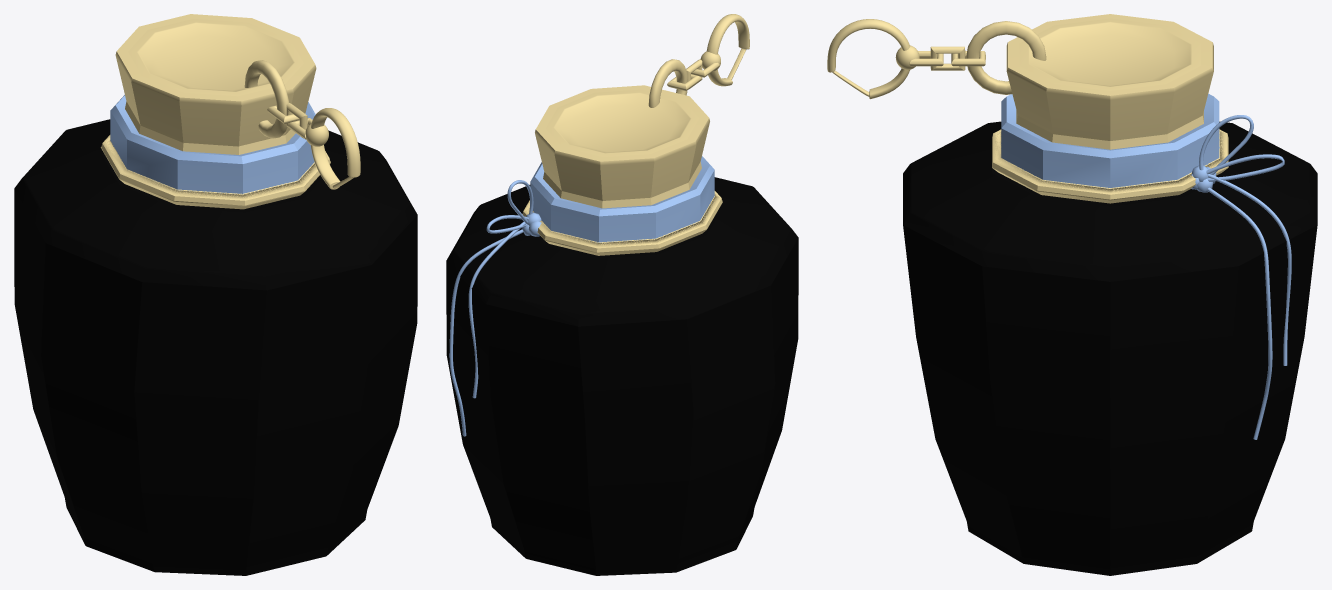
The picture shows the model from 3 angles, left to right: view 1: azimuth 30°, elevation 25°; view 2: azimuth 150°, elevation 25°; view 3: azimuth 270°, elevation 25°; orthographic projection. The views are drawn at different scales.
Parts seen in each view (by area): view 1: RRfinal; view 2: RRfinal; view 3: RRfinal.
Boxes of the visible parts, x1=… form: RRfinal: x1=14, y1=14, x2=417, y2=575; RRfinal: x1=446, y1=14, x2=798, y2=575; RRfinal: x1=827, y1=14, x2=1317, y2=575.
Bounding box in the file's own units: 9.52 × 12.8 × 11.54.
